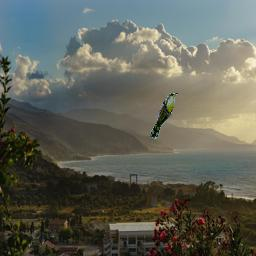Cuckoo: (150, 93, 178, 139)
